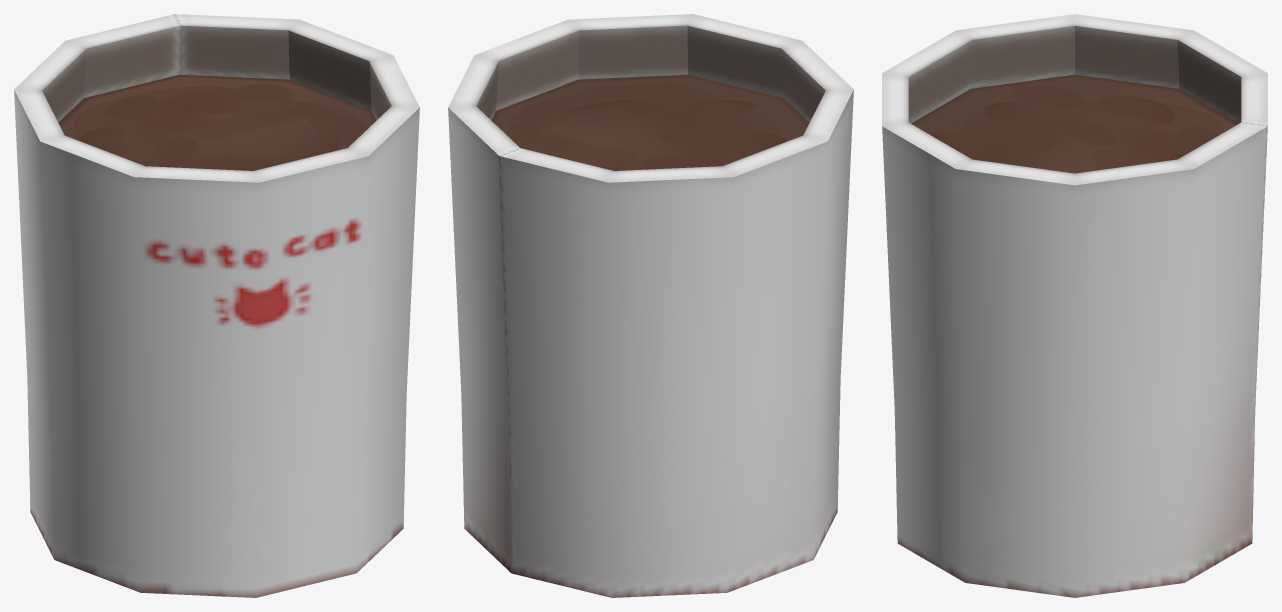
Rendered from NetCafe_Flowerpot.fbx.
3 renders of one model, left to right at view 1: azimuth 30°, elevation 25°; view 2: azimuth 150°, elevation 25°; view 3: azimuth 270°, elevation 25°, orthographic.
Parts seen in each view (by area): view 1: Cylinder003; view 2: Cylinder003; view 3: Cylinder003.
Boxes of the visible parts, box(x1,y1,x2,y2) form: Cylinder003: box(14, 14, 419, 597); Cylinder003: box(448, 14, 853, 597); Cylinder003: box(882, 14, 1267, 597).
Size of the model in its own units: 0.3259 by 0.3719 by 0.3099.
Materials: 1 (1 with a texture image).
